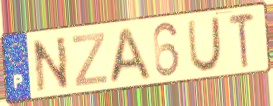6: (151, 21, 182, 80)
A: (106, 25, 154, 87)
N: (30, 34, 71, 95)
T: (226, 11, 257, 70)
U: (186, 14, 223, 74)
Z: (71, 29, 109, 88)
